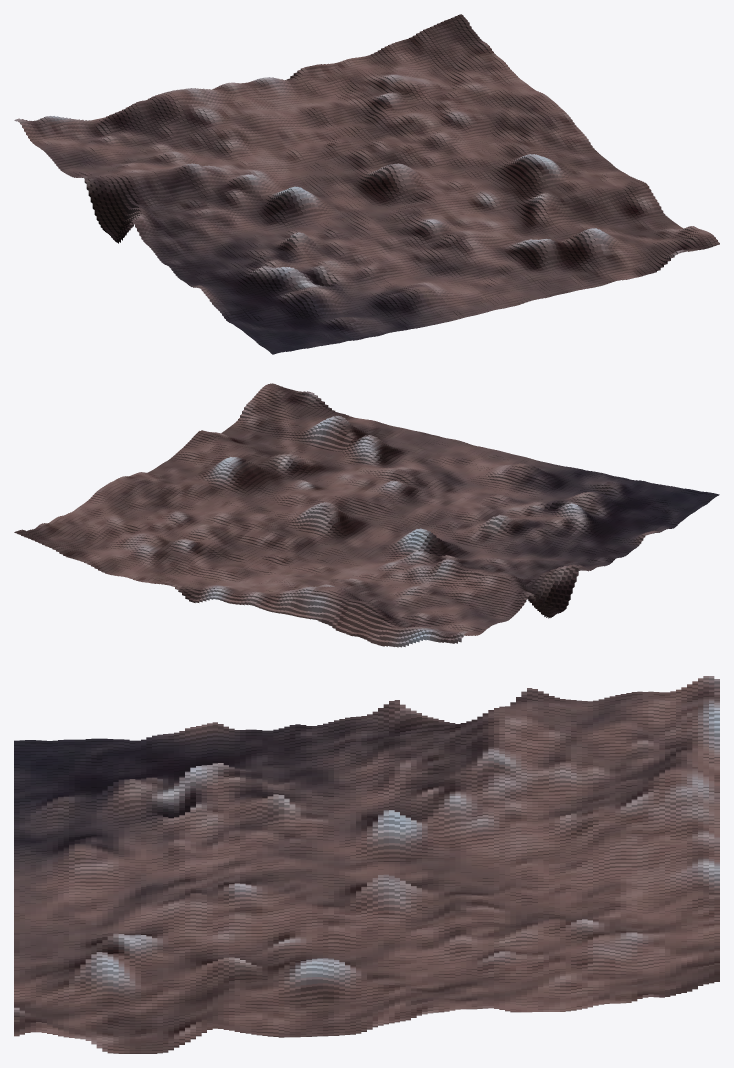
The model's file is chunk-19.glb.
The picture shows the model from 3 angles, top to bottom: view 1: azimuth 30°, elevation 25°; view 2: azimuth 150°, elevation 25°; view 3: azimuth 270°, elevation 25°; orthographic projection. The views are drawn at different scales.
Visible parts, largest first — view 1: Mesh_0.035; view 2: Mesh_0.035; view 3: Mesh_0.035.
Part boxes in pixels (x1,y1,x2,y2): Mesh_0.035: [14, 14, 719, 354]; Mesh_0.035: [14, 383, 719, 647]; Mesh_0.035: [14, 676, 719, 1053].
Bounding box in the file's own units: 32000 × 4074 × 32000.
